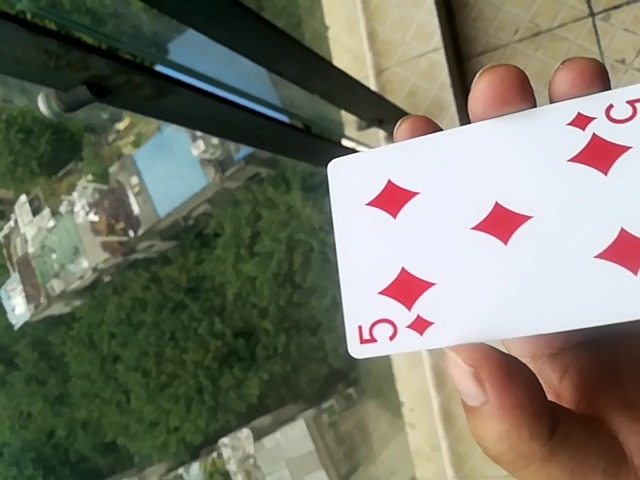fk 5: (309, 74, 639, 364)
